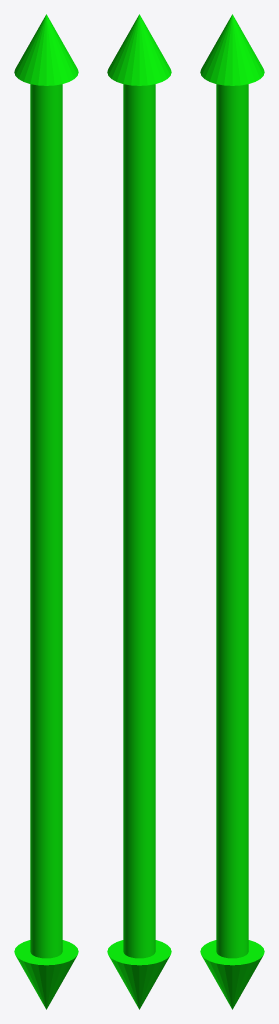
The model's file is green.dae.
3 renders of one model, left to right at view 1: azimuth 90°, elevation 25°; view 2: azimuth 150°, elevation 25°; view 3: azimuth 270°, elevation 25°, orthographic.
Visible parts, largest first — view 1: SketchUp, group_0, group_1; view 2: SketchUp, group_0, group_1; view 3: SketchUp, group_0, group_1.
Part boxes in pixels (x1=…): SketchUp: x1=30, y1=84, x2=62, y2=958; group_0: x1=14, y1=14, x2=78, y2=85; group_1: x1=14, y1=940, x2=78, y2=1009; SketchUp: x1=123, y1=84, x2=155, y2=958; group_0: x1=107, y1=14, x2=171, y2=85; group_1: x1=107, y1=940, x2=171, y2=1009; SketchUp: x1=216, y1=84, x2=248, y2=958; group_0: x1=200, y1=14, x2=264, y2=85; group_1: x1=200, y1=940, x2=264, y2=1009.
Bounding box in the file's own units: 15.75 × 15.75 × 268.
